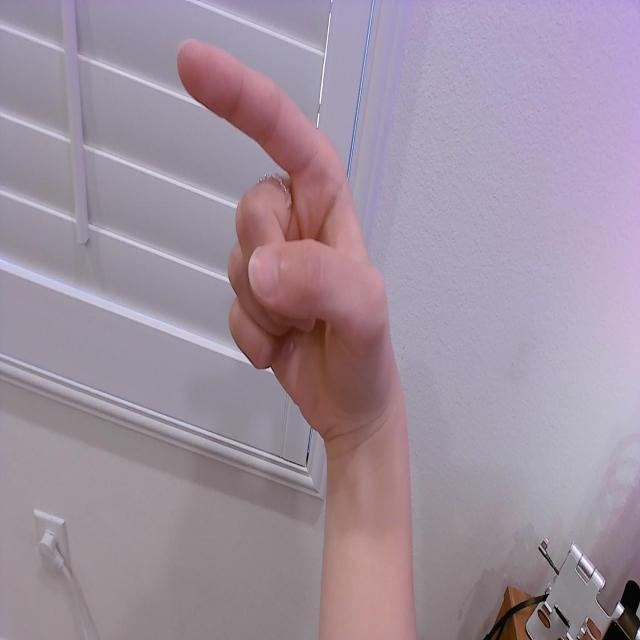Z: (175, 34, 402, 433)
